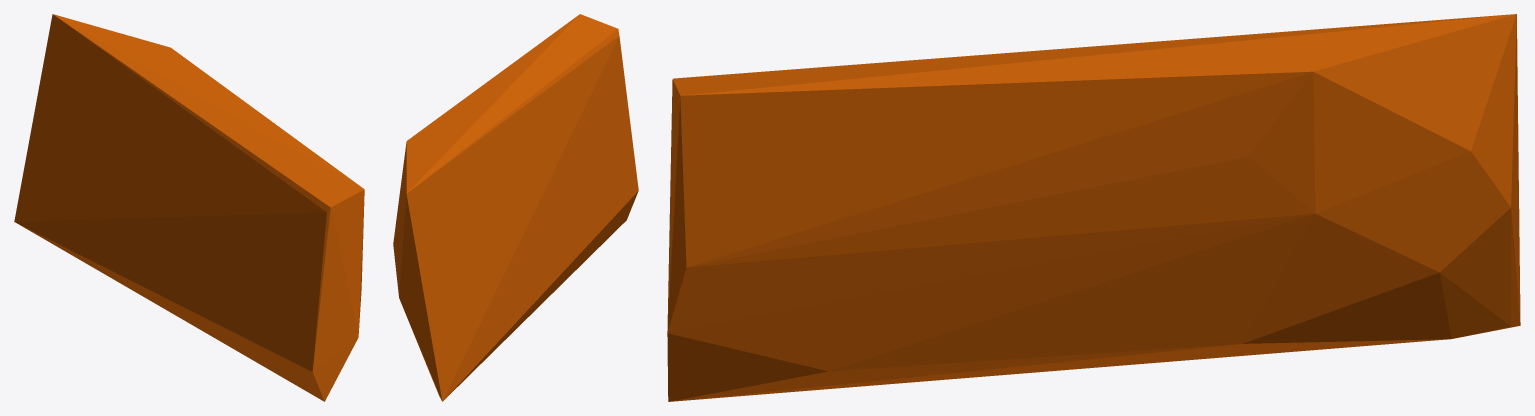
The model's file is shoulder-roll-housing-mirror_convex_piece_007.obj.
3 views of the same model, side by side, from view 1: azimuth 30°, elevation 25°; view 2: azimuth 150°, elevation 25°; view 3: azimuth 270°, elevation 25° (orthographic). The views are drawn at different scales.
Size of the model in its own units: 0.0189 by 0.0363 by 0.0766.
